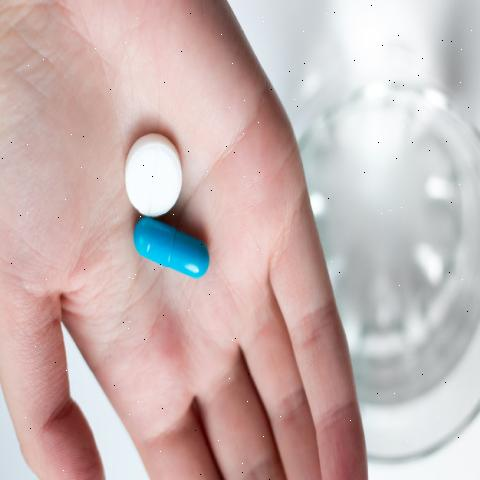Pill: (114, 131, 209, 216)
